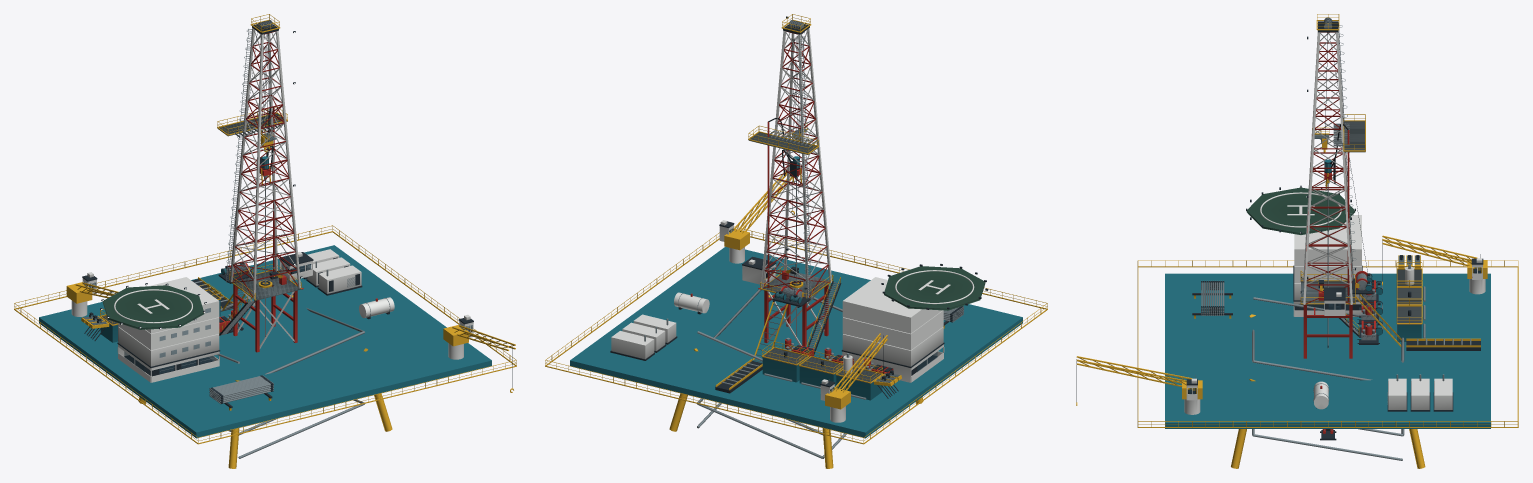
File: platform_modular_lodH.glb
3 renders of one model, left to right at view 1: azimuth 30°, elevation 25°; view 2: azimuth 150°, elevation 25°; view 3: azimuth 270°, elevation 25°, orthographic. The views are drawn at different scales.
Parts seen in each view (by area): view 1: platform_deck_surface_blue, accommodation_surface_white, derrick_surface_white, deck_handrails_surface_yellow, helideck_surface_green, derrick_surface_red, generators_surface_white, jacket_surface_steel, substructure_surface_red, pipe_rack_surface_steel, ladder_surface_steel, deck_crane_1_surface_yellow (+7 smaller); view 2: platform_deck_surface_blue, accommodation_surface_white, derrick_surface_white, deck_handrails_surface_yellow, helideck_surface_green, derrick_surface_red, generators_surface_white, mud_tanks_surface_blue, jacket_surface_steel, deck_crane_2_surface_yellow, mud_tanks_surface_yellow, mud_tanks_surface_deck (+12 smaller); view 3: platform_deck_surface_blue, derrick_surface_white, accommodation_surface_white, helideck_surface_green, deck_handrails_surface_yellow, derrick_surface_red, generators_surface_white, jacket_surface_steel, deck_crane_1_surface_yellow, mud_tanks_surface_steel, mud_tanks_surface_deck, deck_crane_2_surface_yellow (+9 smaller).
Part boxes in pixels (x1,y1,x2,y2): platform_deck_surface_blue: [39, 245, 491, 438]; accommodation_surface_white: [117, 277, 219, 382]; derrick_surface_white: [230, 28, 300, 299]; deck_handrails_surface_yellow: [14, 225, 516, 444]; helideck_surface_green: [102, 285, 204, 329]; derrick_surface_red: [232, 31, 297, 296]; generators_surface_white: [305, 249, 361, 293]; jacket_surface_steel: [217, 296, 364, 458]; substructure_surface_red: [233, 284, 297, 352]; pipe_rack_surface_steel: [209, 375, 273, 403]; ladder_surface_steel: [225, 29, 252, 282]; deck_crane_1_surface_yellow: [443, 325, 515, 392]; platform_deck_surface_blue: [570, 247, 1022, 438]; accommodation_surface_white: [842, 277, 944, 382]; derrick_surface_white: [761, 28, 831, 298]; deck_handrails_surface_yellow: [545, 226, 1047, 444]; helideck_surface_green: [884, 266, 985, 310]; derrick_surface_red: [763, 31, 829, 297]; generators_surface_white: [611, 314, 676, 359]; mud_tanks_surface_blue: [762, 357, 882, 400]; jacket_surface_steel: [697, 289, 846, 458]; deck_crane_2_surface_yellow: [825, 333, 887, 409]; mud_tanks_surface_yellow: [761, 341, 883, 383]; mud_tanks_surface_deck: [762, 348, 881, 383]; platform_deck_surface_blue: [1165, 273, 1490, 428]; derrick_surface_white: [1303, 31, 1352, 304]; accommodation_surface_white: [1293, 215, 1362, 316]; helideck_surface_green: [1246, 187, 1355, 234]; deck_handrails_surface_yellow: [1137, 260, 1518, 427]; derrick_surface_red: [1305, 32, 1352, 303]; generators_surface_white: [1388, 378, 1452, 409]; jacket_surface_steel: [1252, 297, 1404, 460]; deck_crane_1_surface_yellow: [1076, 356, 1202, 405]; mud_tanks_surface_steel: [1397, 270, 1425, 338]; mud_tanks_surface_deck: [1397, 269, 1421, 324]; deck_crane_2_surface_yellow: [1382, 235, 1487, 285].
Bounding box in the file's own units: 58.26 × 66.78 × 65.15.
